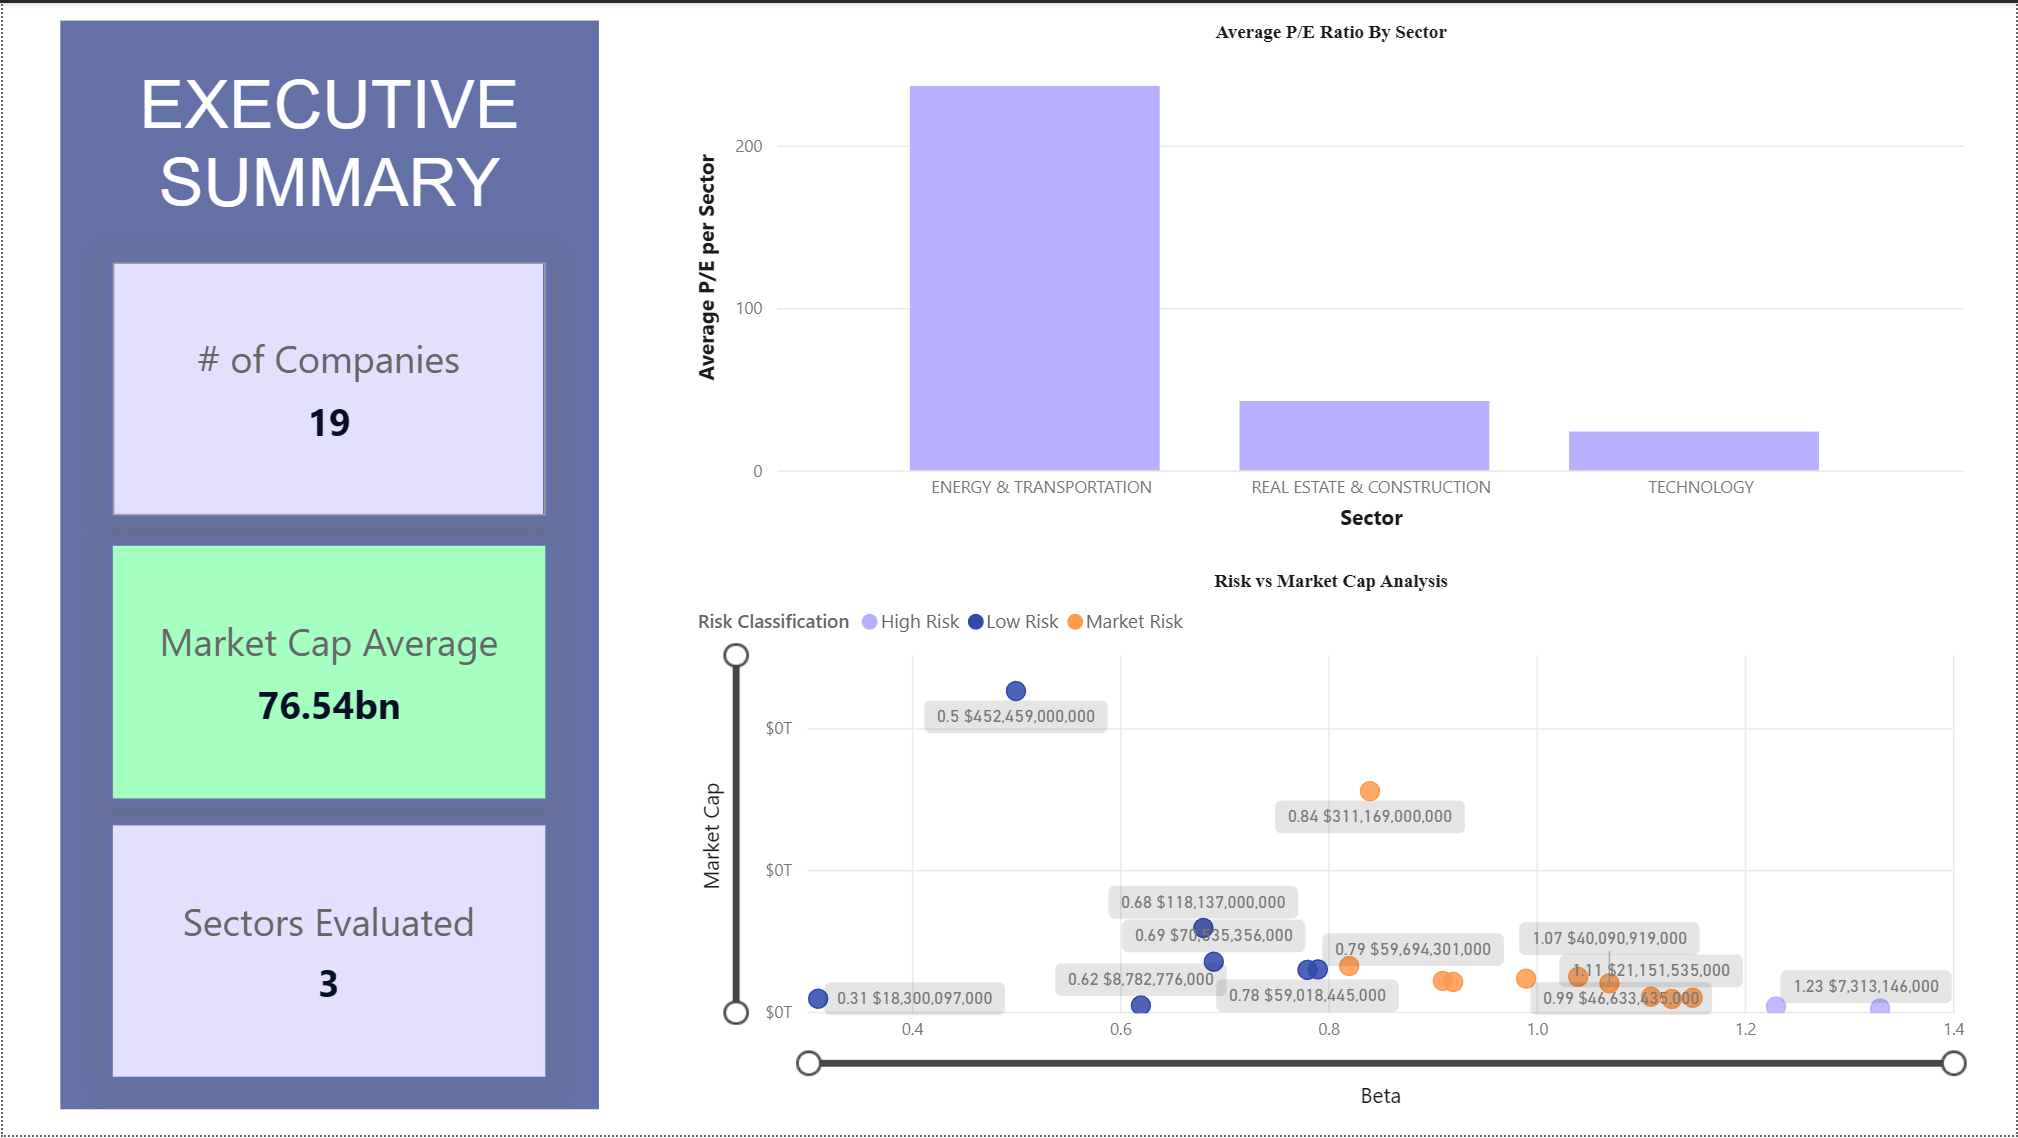

The dashboard page shown, as its layout file describes it:
{"tool":"powerbi","page":{"name":"Executive Summary","canvas":[1280,720],"ordinal":0},"visuals":[{"type":"shape","box":[36.2,11.2,342.5,692.5],"z":0},{"type":"cardVisual","title":"Total Companies Analyzed","fields":{"Data":["CountNonNull(public energymarkets.company)"]},"box":[65,160,285,171.2],"z":1000},{"type":"cardVisual","title":"Average Market Cap","fields":{"Data":["Avg(public energymarkets.marketcap)"]},"box":[65,340,285,171.2],"z":2000},{"type":"cardVisual","title":"Energy Sectors","fields":{"Data":["Count(public energymarkets.sector)"]},"box":[65,517.5,285,170],"z":3000},{"type":"clusteredColumnChart","title":"Average P/E Ratio By Sector","fields":{"Category":["public sector_performance.sector"],"Y":["Sum(public sector_performance.sector_avg_pe)"]},"box":[436.7,11.1,815.6,328.9],"z":4000},{"type":"scatterChart","title":"Risk vs Market Cap Analysis","fields":{"X":["public risk_analysis.beta"],"Y":["public risk_analysis.marketcap"],"Series":["public risk_analysis.risk_tier"]},"box":[436.7,360,815.6,343.3],"z":5000},{"type":"textbox","box":[36.2,35,342.5,140],"z":6000}]}

Visuals, with their boxes in screenshot pixels (x1, y1, x2, y2), scaled from the page's 1280x720 canvas onto the 2018x1138 screenshot:
shape: (57,18,597,1112)
"Total Companies Analyzed" cardVisual: (102,253,552,523)
"Average Market Cap" cardVisual: (102,537,552,808)
"Energy Sectors" cardVisual: (102,818,552,1087)
"Average P/E Ratio By Sector" clusteredColumnChart: (688,18,1974,537)
"Risk vs Market Cap Analysis" scatterChart: (688,569,1974,1112)
textbox: (57,55,597,277)
